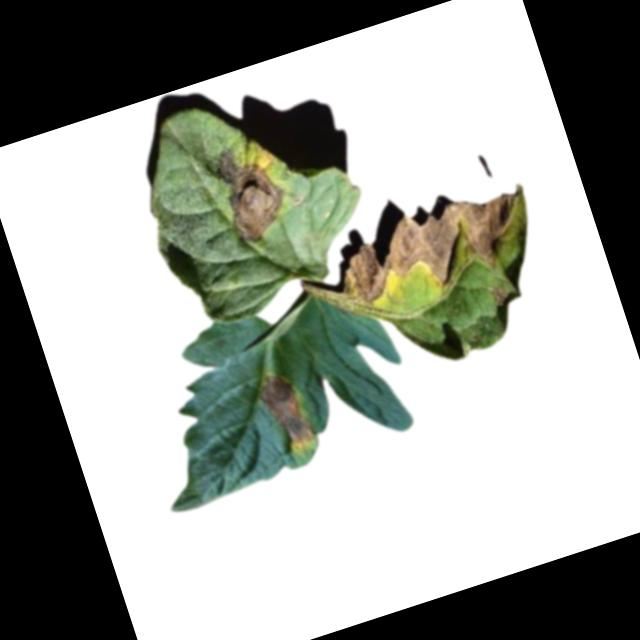Early_blight: (327, 180, 545, 321), (202, 135, 298, 251), (253, 365, 322, 459), (487, 282, 513, 309)
